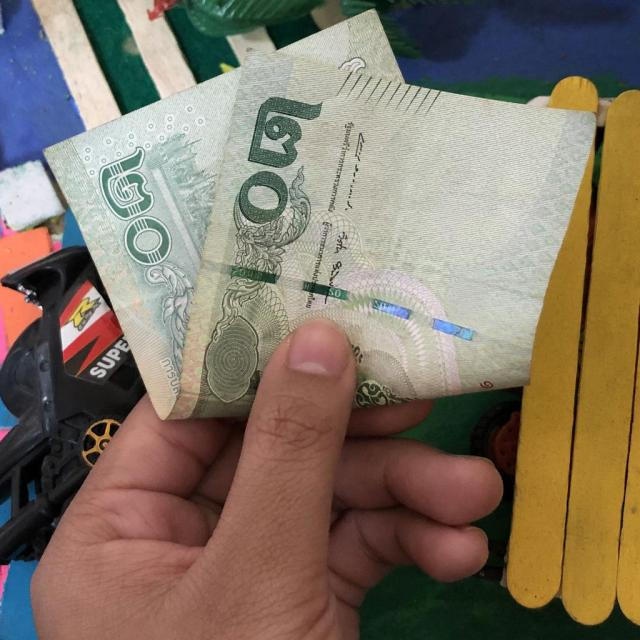THAI20: (41, 9, 600, 424)
